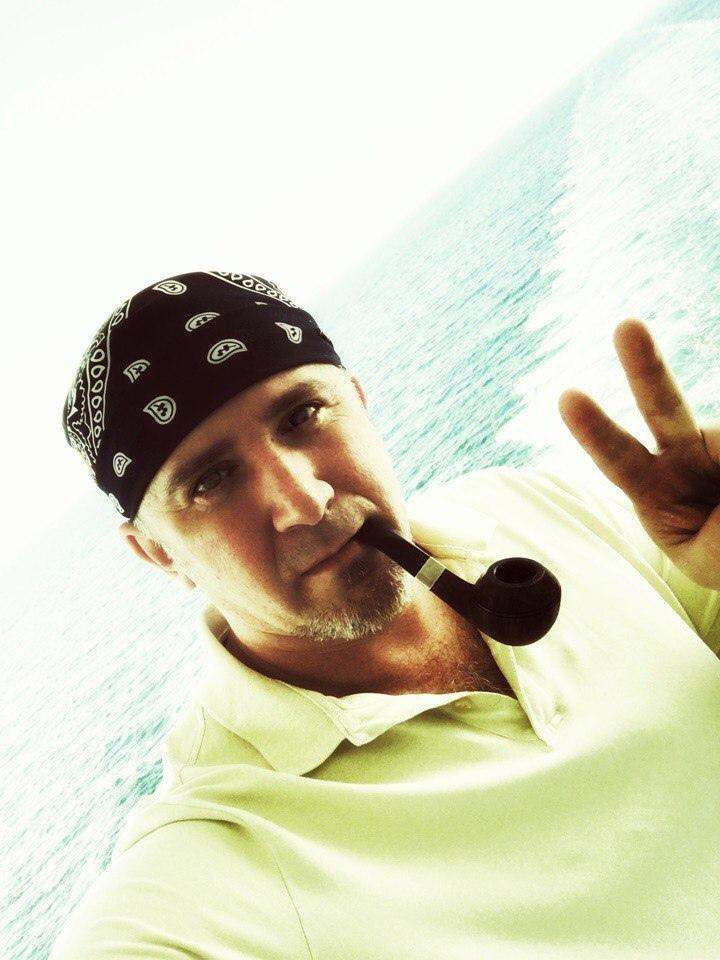trubka: (356, 519, 560, 646)
